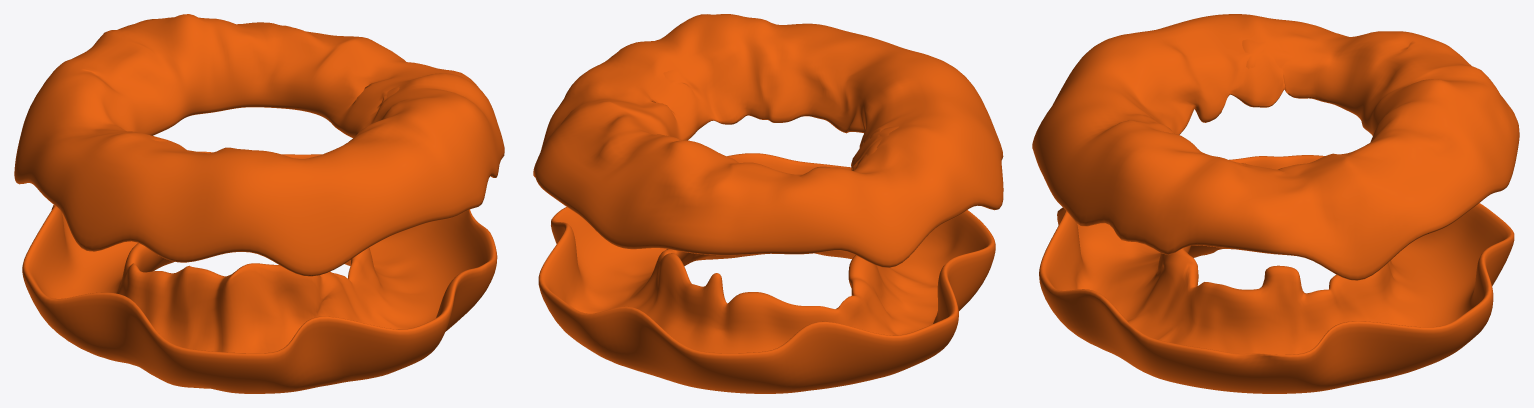
The picture shows the model from 3 angles, left to right: view 1: azimuth 30°, elevation 25°; view 2: azimuth 150°, elevation 25°; view 3: azimuth 270°, elevation 25°; orthographic projection. The views are drawn at different scales.
Parts seen in each view (by area): view 1: Torus; view 2: Torus; view 3: Torus.
Boxes of the visible parts, x1,y1,x2,y2 form: Torus: [14, 14, 504, 393]; Torus: [533, 14, 1003, 393]; Torus: [1032, 14, 1519, 393].
Bounding box in the file's own units: 9.34 × 5.1 × 9.32.
